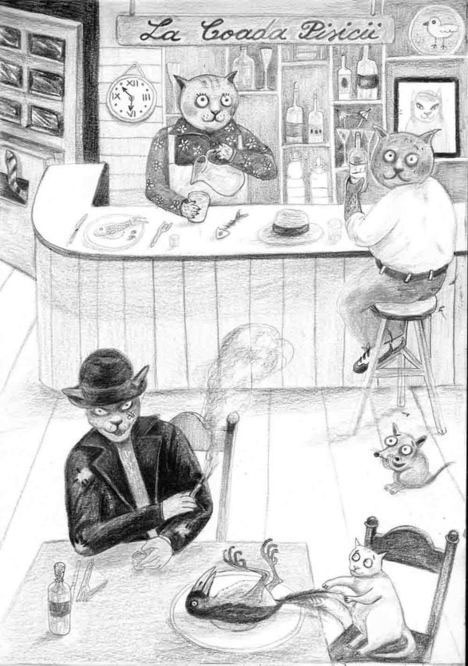cat: (320, 112, 444, 357), (77, 332, 167, 540), (153, 68, 284, 201), (329, 507, 430, 617)
